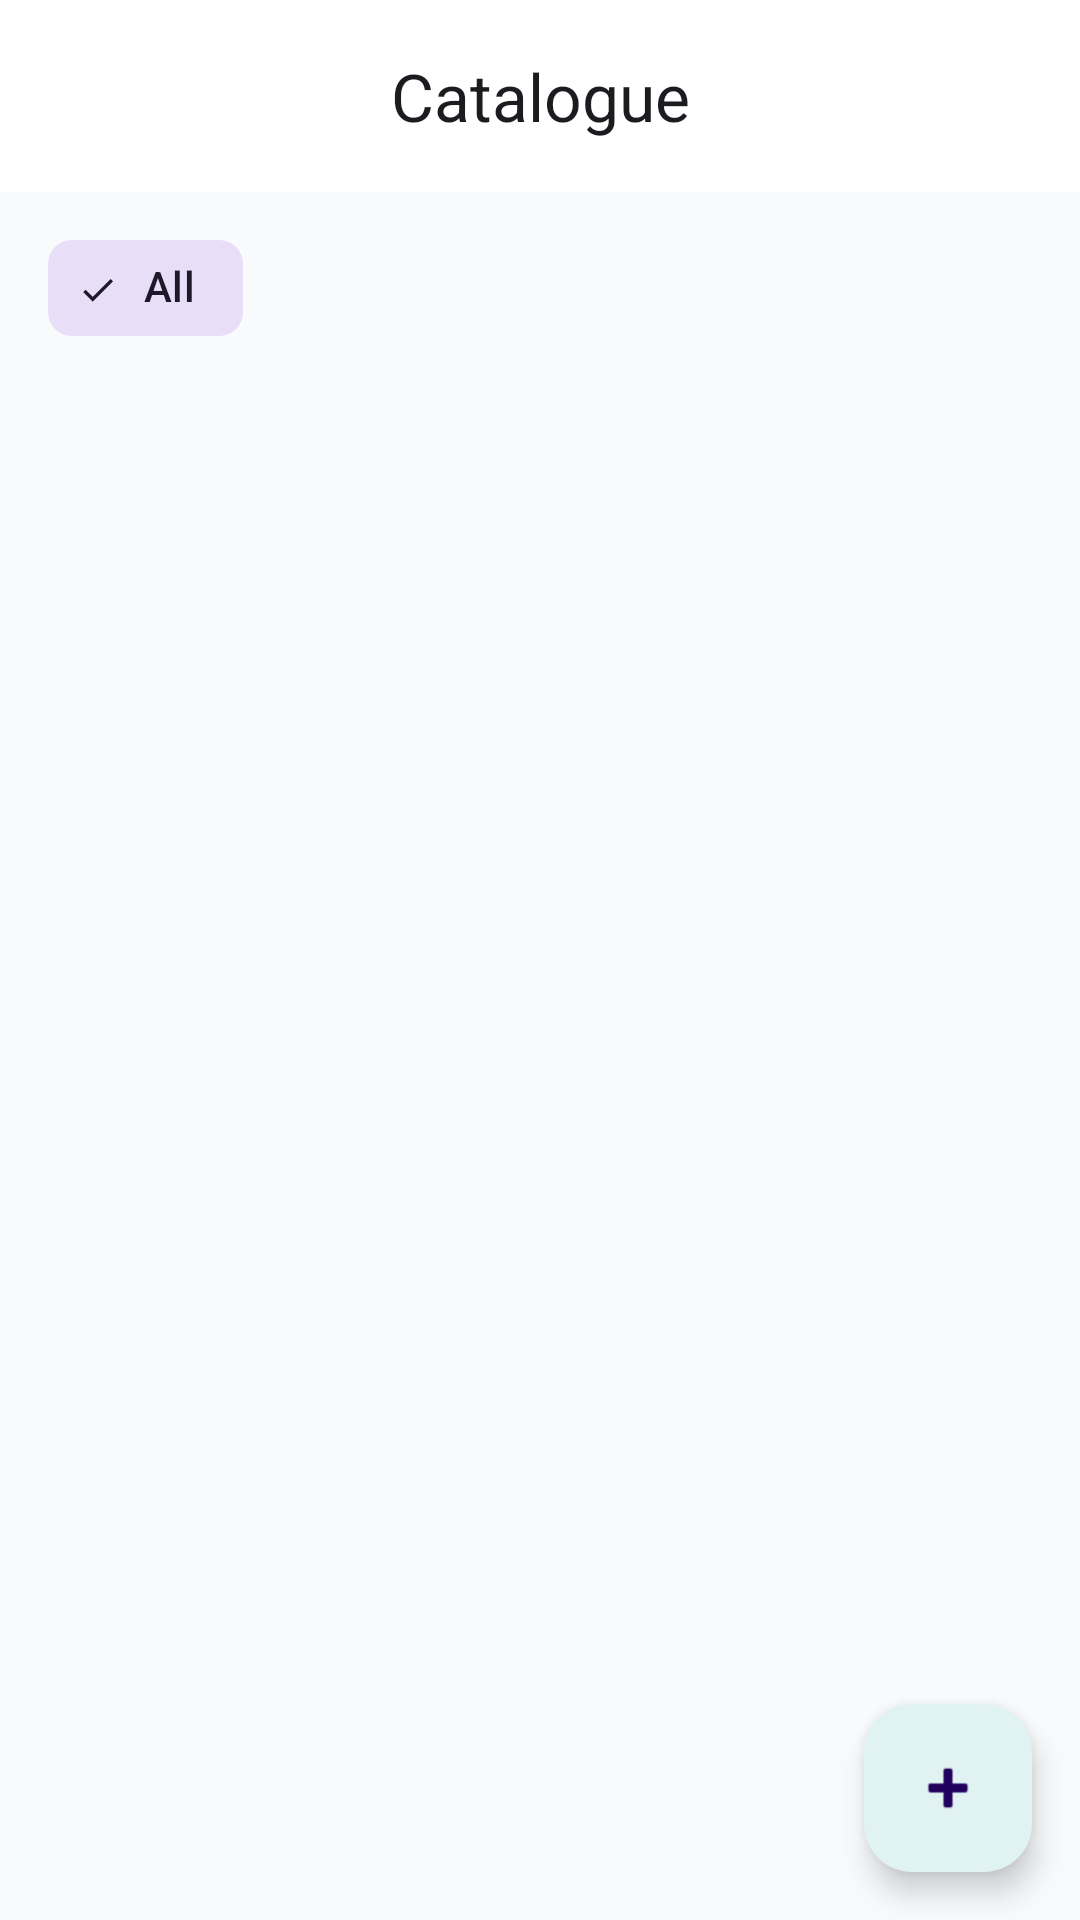

Where to tap for icons on this 1080 x 1920 app screen, as [x,y]:
Add Item: [948,1788]
